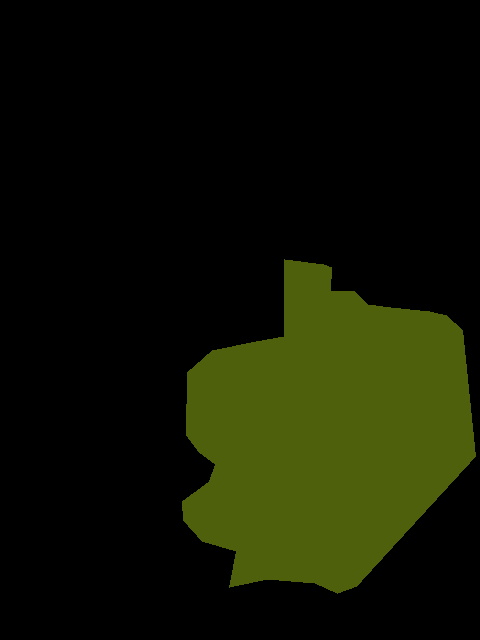Train: (182, 259, 476, 593)
